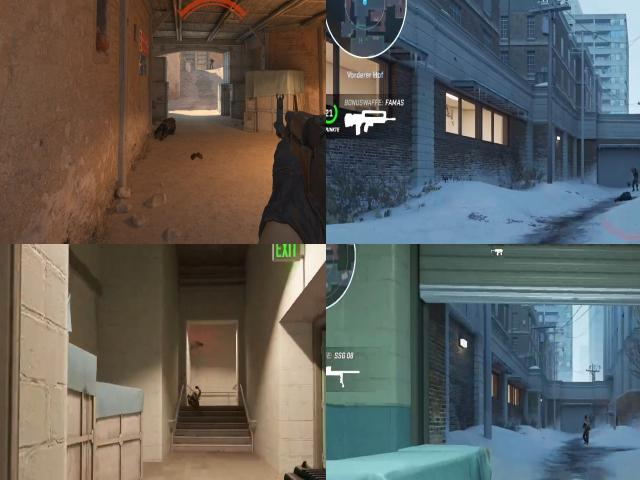CT: (632, 166, 640, 191), (210, 56, 213, 69)
CT-Head: (634, 166, 638, 175), (210, 57, 212, 58)
Dead: (612, 189, 635, 213), (155, 118, 178, 140), (186, 381, 205, 405)
T: (582, 411, 593, 438)
T-Head: (584, 415, 590, 423)
